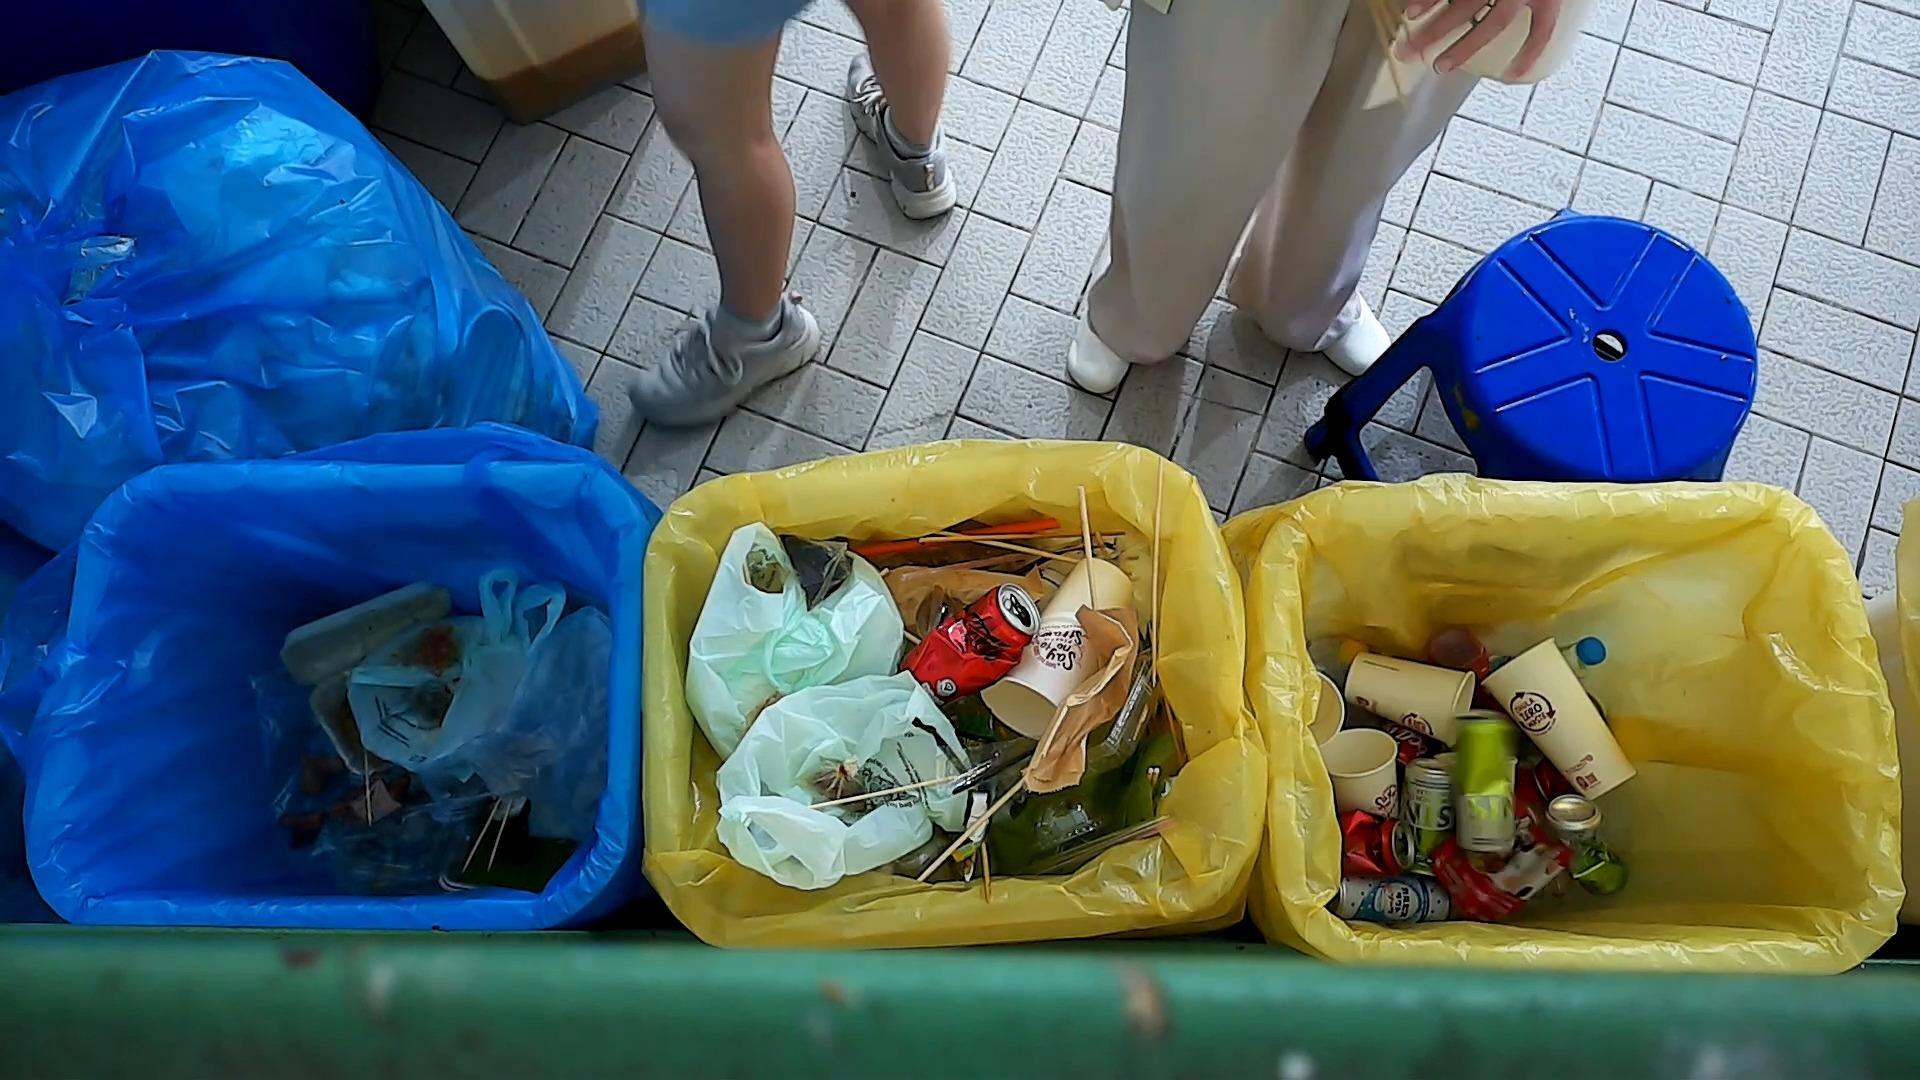can: (894, 580, 1044, 711), (1449, 707, 1524, 858), (1544, 790, 1633, 899), (1396, 752, 1462, 881), (1331, 873, 1452, 927), (1335, 804, 1419, 881)
filled plastic bag: (671, 517, 914, 760), (342, 559, 579, 782)
paper bag: (1019, 603, 1146, 798), (886, 559, 1052, 644)
plastic bag: (712, 665, 984, 894), (419, 580, 617, 851)
snack packaging: (1425, 811, 1582, 926)
sticks: (913, 774, 1029, 886), (806, 765, 989, 814), (931, 527, 1080, 567), (915, 525, 1131, 547), (1149, 455, 1167, 690), (459, 793, 506, 876), (1075, 481, 1100, 608), (485, 796, 516, 876)
straw: (901, 550, 1035, 584)
zero waste cup: (980, 551, 1137, 745), (1477, 633, 1639, 804), (1341, 646, 1480, 749), (1319, 725, 1404, 822)
